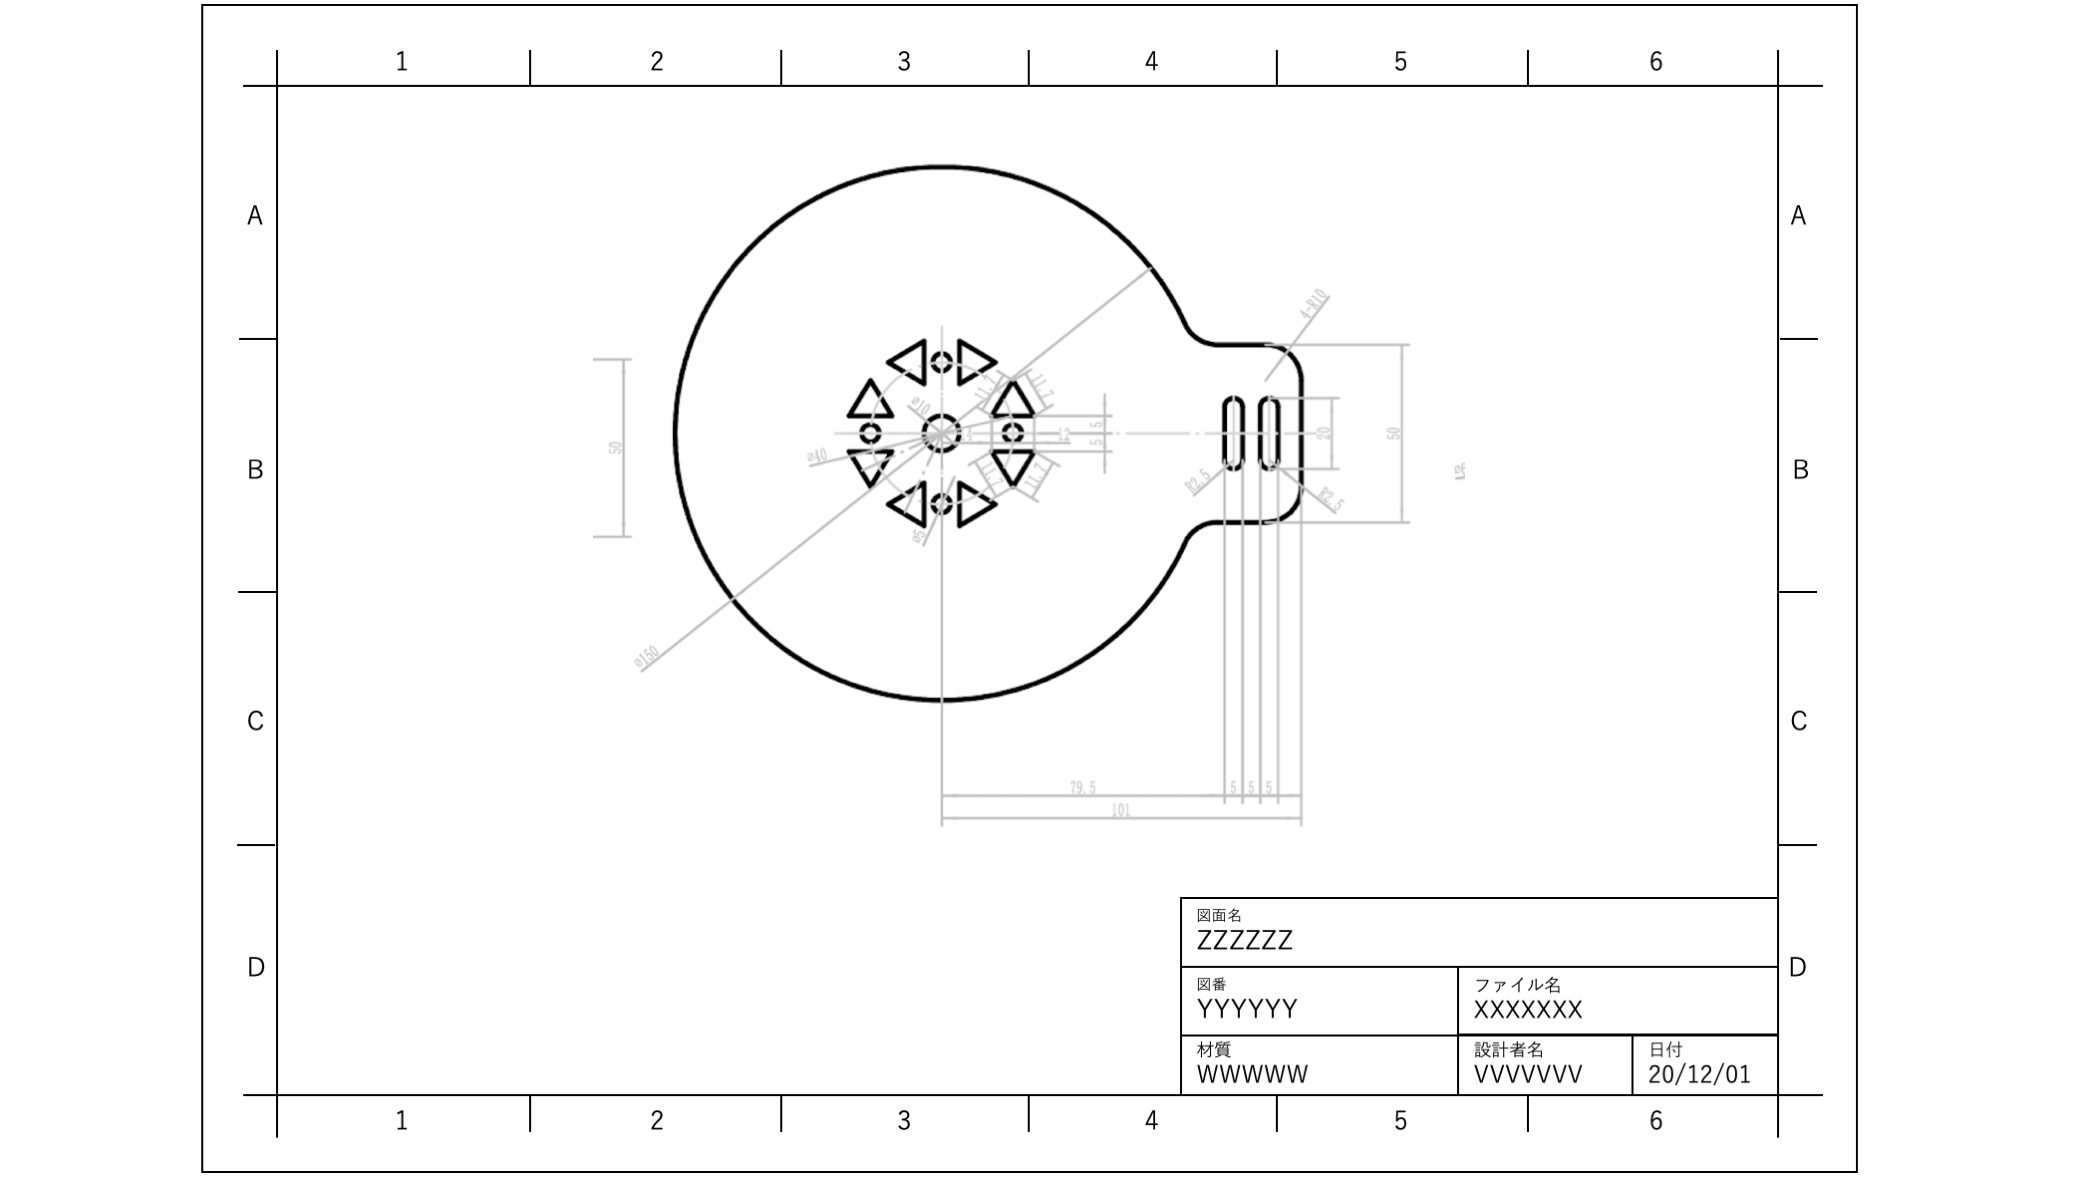circle: (914, 410, 971, 456), (850, 418, 888, 443), (994, 420, 1030, 446), (929, 342, 953, 379), (929, 487, 958, 513)
round_rectangle: (1219, 385, 1250, 476), (1255, 389, 1284, 473)
triangle: (952, 335, 1002, 389), (842, 373, 897, 421), (883, 474, 930, 529), (952, 474, 1000, 528), (848, 443, 897, 489), (886, 332, 927, 385), (989, 373, 1036, 420), (991, 443, 1036, 489)
